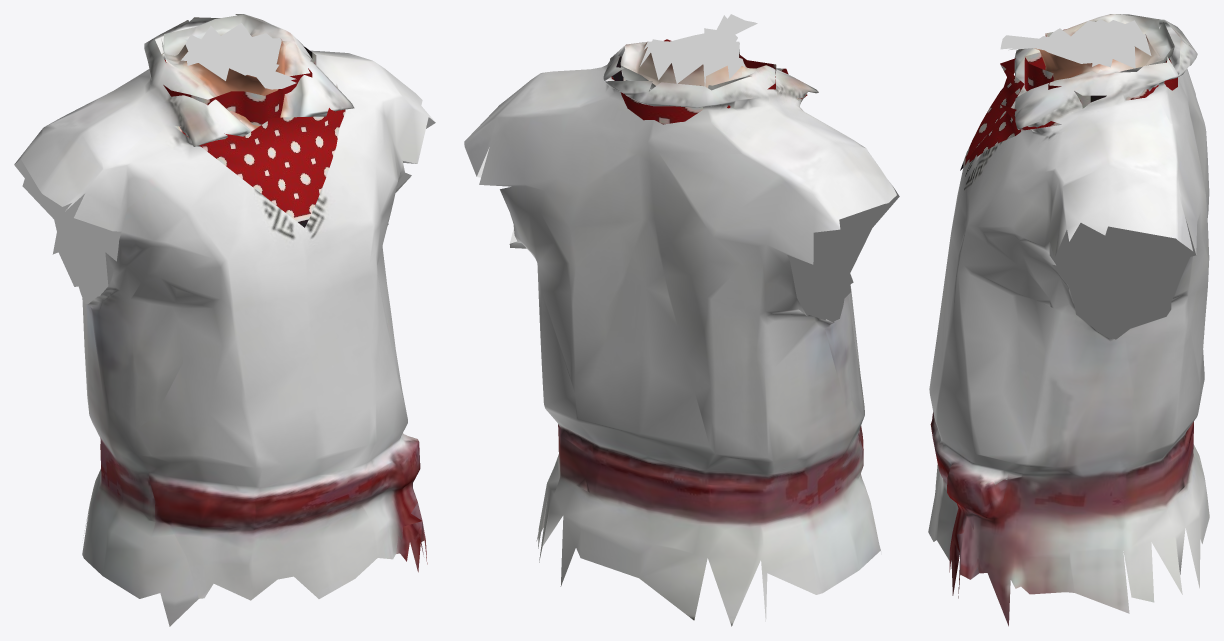
Rendered from hombre_torso.obj.
The picture shows the model from 3 angles, left to right: view 1: azimuth 30°, elevation 25°; view 2: azimuth 150°, elevation 25°; view 3: azimuth 270°, elevation 25°; orthographic projection. The views are drawn at different scales.
Visible parts, largest first — view 1: hombre_torso; view 2: hombre_torso; view 3: hombre_torso.
Boxes of the visible parts, left/top/right/bottom form: hombre_torso: left=14, top=14, right=435, bottom=626; hombre_torso: left=464, top=14, right=899, bottom=626; hombre_torso: left=928, top=14, right=1209, bottom=626.
Bounding box in the file's own units: 0.5068 × 0.6589 × 0.3217.
